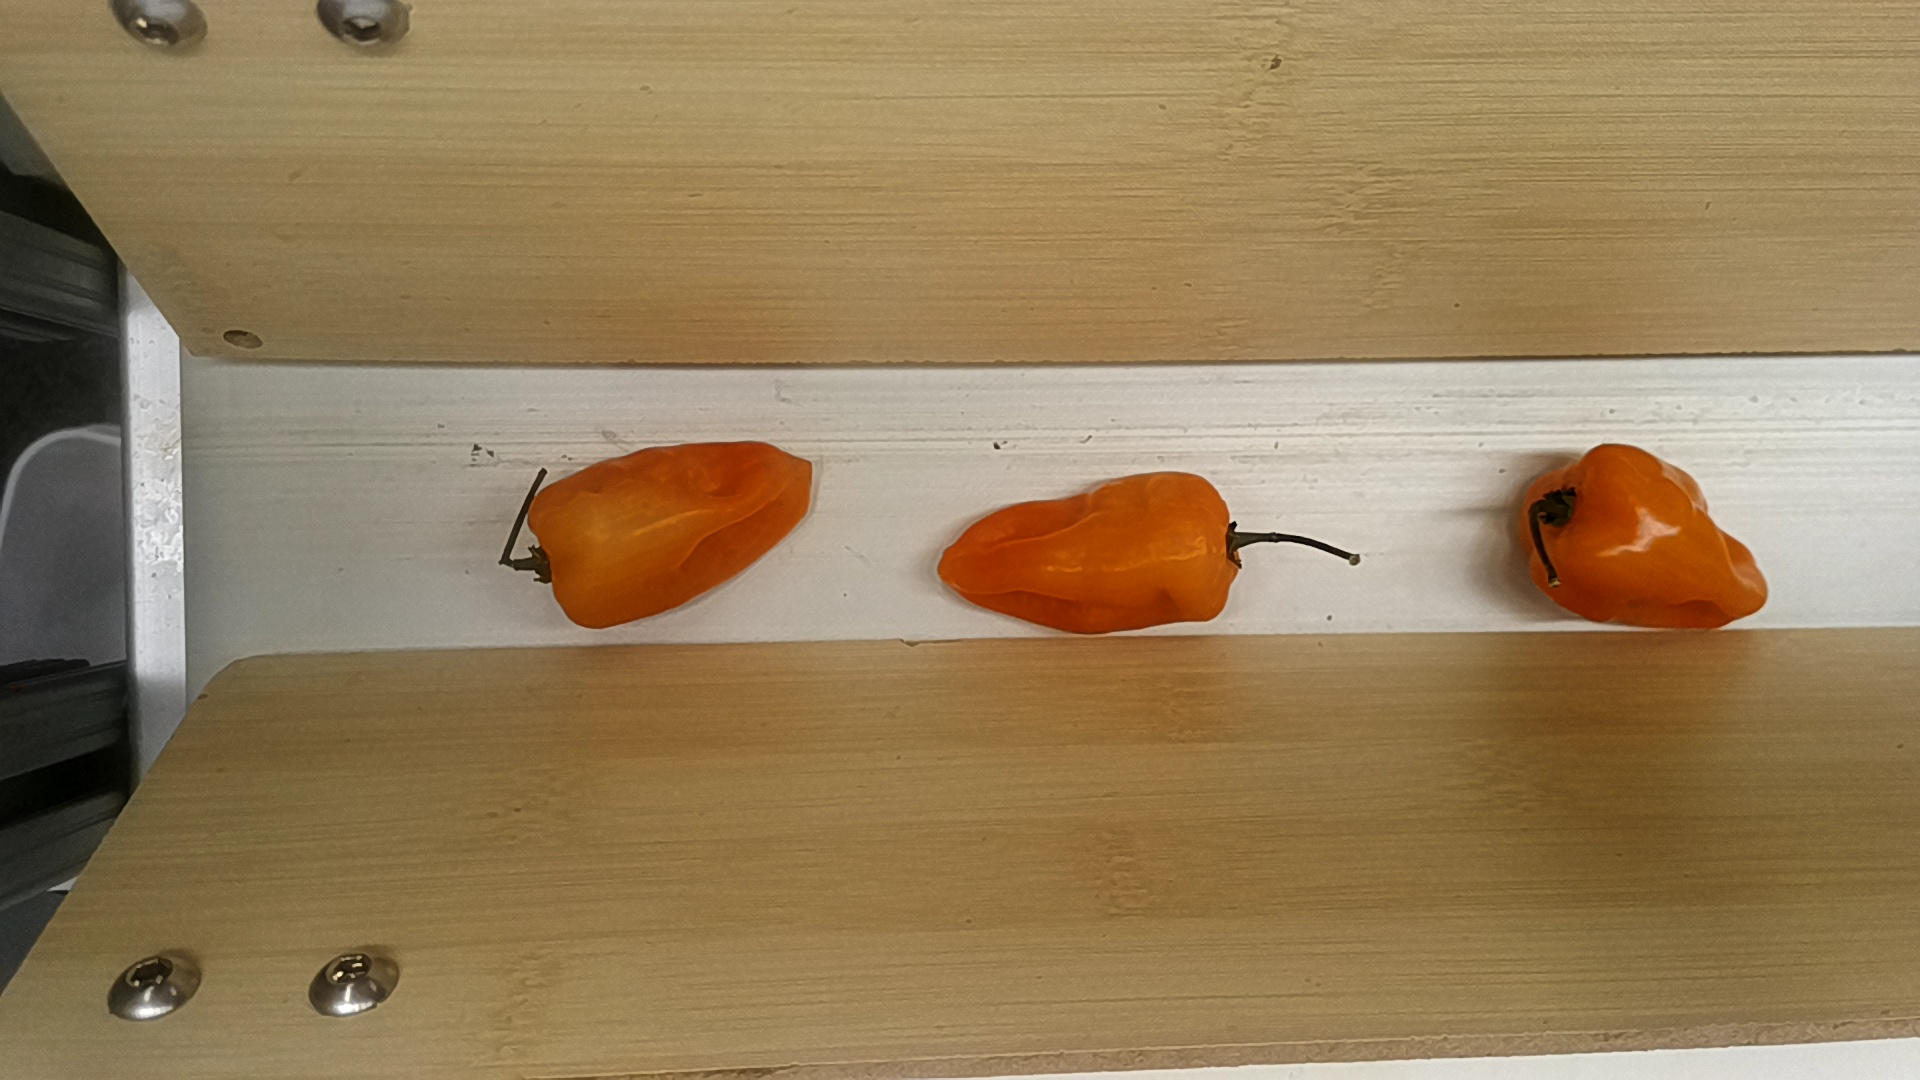Cut Point: (1542, 440, 1602, 621), (1195, 467, 1246, 626), (529, 480, 576, 636)
